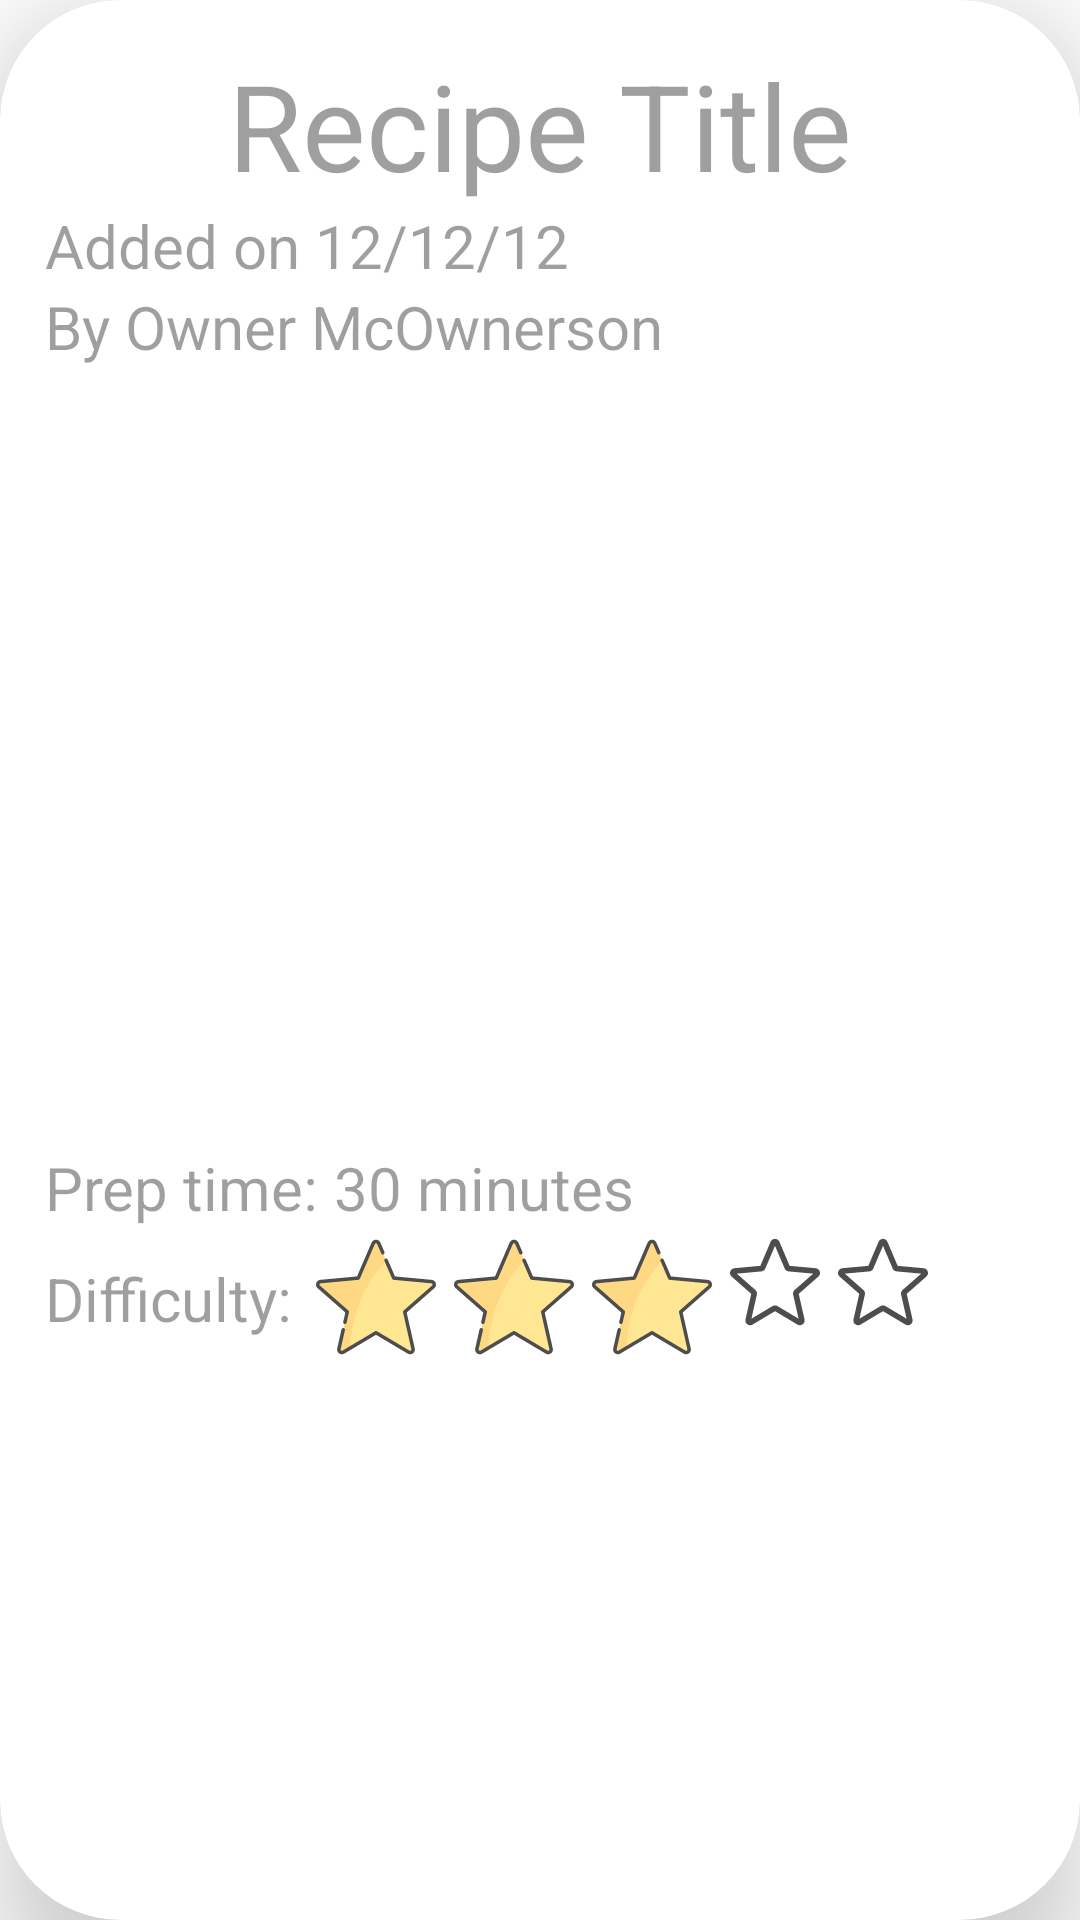

Screen size 1080w x 1920h. Icon name, then its center in pixels as point (x, y):
empty star: point (775, 1282), point (883, 1282)
full star: point (376, 1297), point (514, 1297), point (652, 1297)
